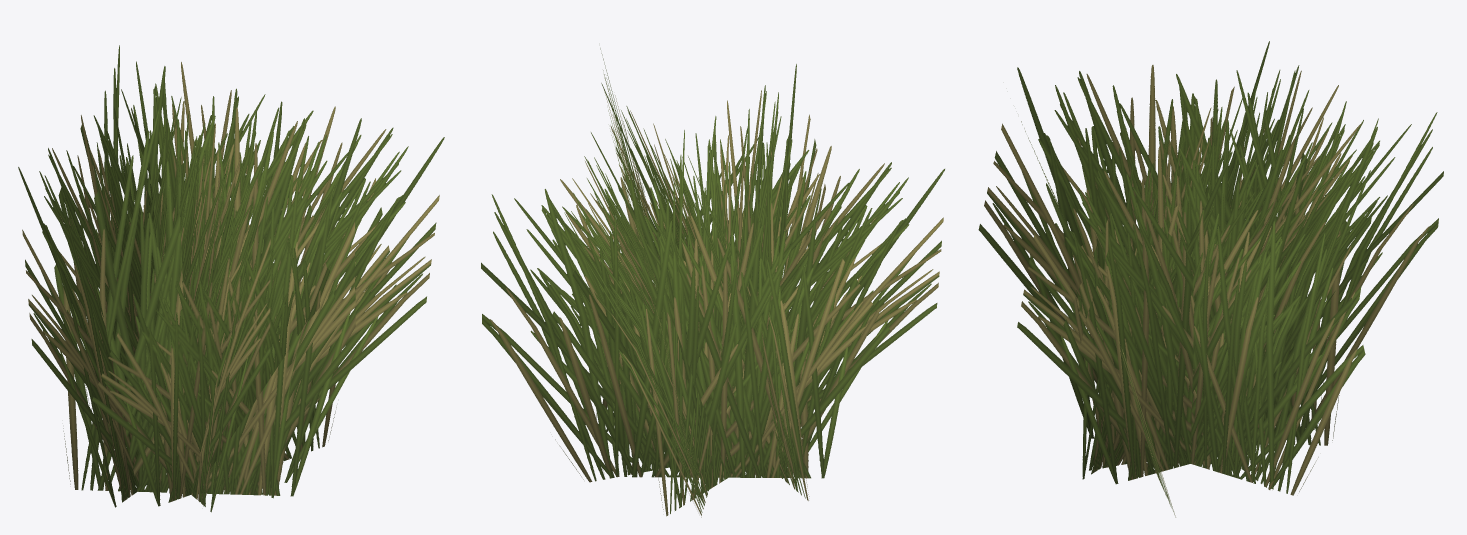
Rendered from RES_Fiber_01.fbx.
3 views of the same model, side by side, from view 1: azimuth 30°, elevation 25°; view 2: azimuth 150°, elevation 25°; view 3: azimuth 270°, elevation 25° (orthographic). The views are drawn at different scales.
Parts seen in each view (by area): view 1: RES_Fiber_01; view 2: RES_Fiber_01; view 3: RES_Fiber_01.
Part boxes in pixels (bbox=[...]): RES_Fiber_01: bbox=[18, 45, 444, 512]; RES_Fiber_01: bbox=[481, 48, 944, 517]; RES_Fiber_01: bbox=[978, 41, 1443, 517].
Bounding box in the file's own units: 1.3 × 1.31 × 1.35.
